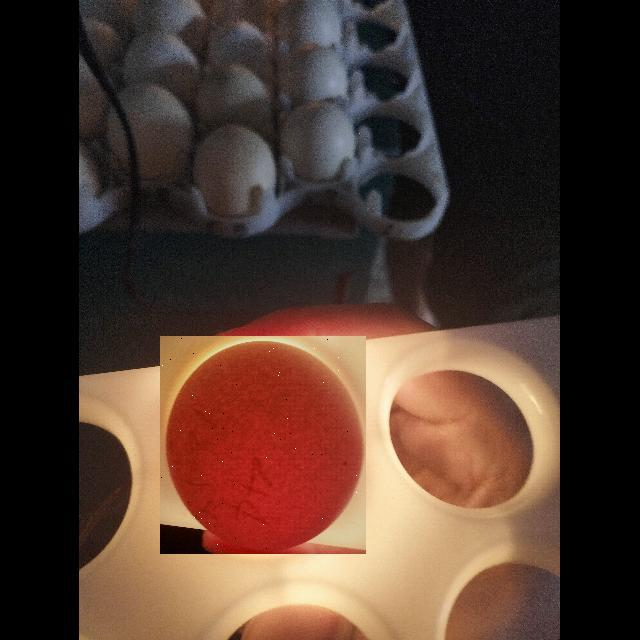Infertile: (160, 336, 366, 554)
